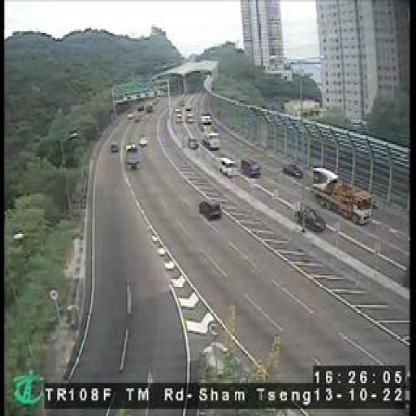Car: (296, 203, 325, 234), (198, 197, 221, 221), (240, 156, 262, 180), (218, 157, 237, 179), (284, 163, 302, 178), (200, 112, 212, 126), (185, 110, 194, 124), (175, 112, 184, 126), (138, 135, 148, 147), (110, 141, 119, 154), (189, 137, 199, 148)
Truck: (310, 167, 373, 225), (202, 127, 220, 152), (125, 142, 139, 169)
